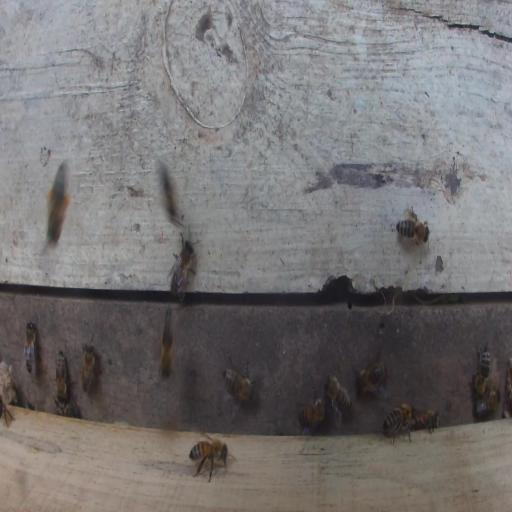nonpollenbee: (188, 434, 229, 483), (221, 350, 257, 405), (396, 201, 430, 251), (170, 235, 195, 302), (324, 372, 352, 427), (157, 156, 179, 223), (382, 403, 416, 445), (297, 386, 326, 433), (354, 361, 387, 396), (159, 306, 174, 380), (473, 344, 491, 395), (22, 320, 38, 376), (81, 339, 96, 394), (55, 350, 68, 404), (477, 387, 500, 416), (415, 409, 439, 434), (503, 358, 512, 416), (54, 398, 78, 416)
pollenbee: (46, 155, 75, 247)
